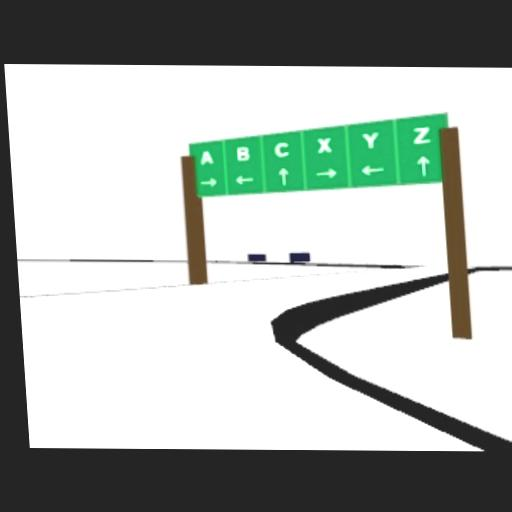A: (198, 148, 212, 164)
B: (236, 146, 251, 162)
C: (273, 141, 288, 157)
Left: (360, 164, 386, 175), (234, 175, 254, 185)
Right: (313, 167, 338, 178), (199, 177, 217, 188)
Straight: (415, 154, 430, 176), (276, 167, 289, 185)
X: (316, 136, 331, 152)
Y: (361, 131, 380, 149)
Z: (412, 124, 432, 144)
